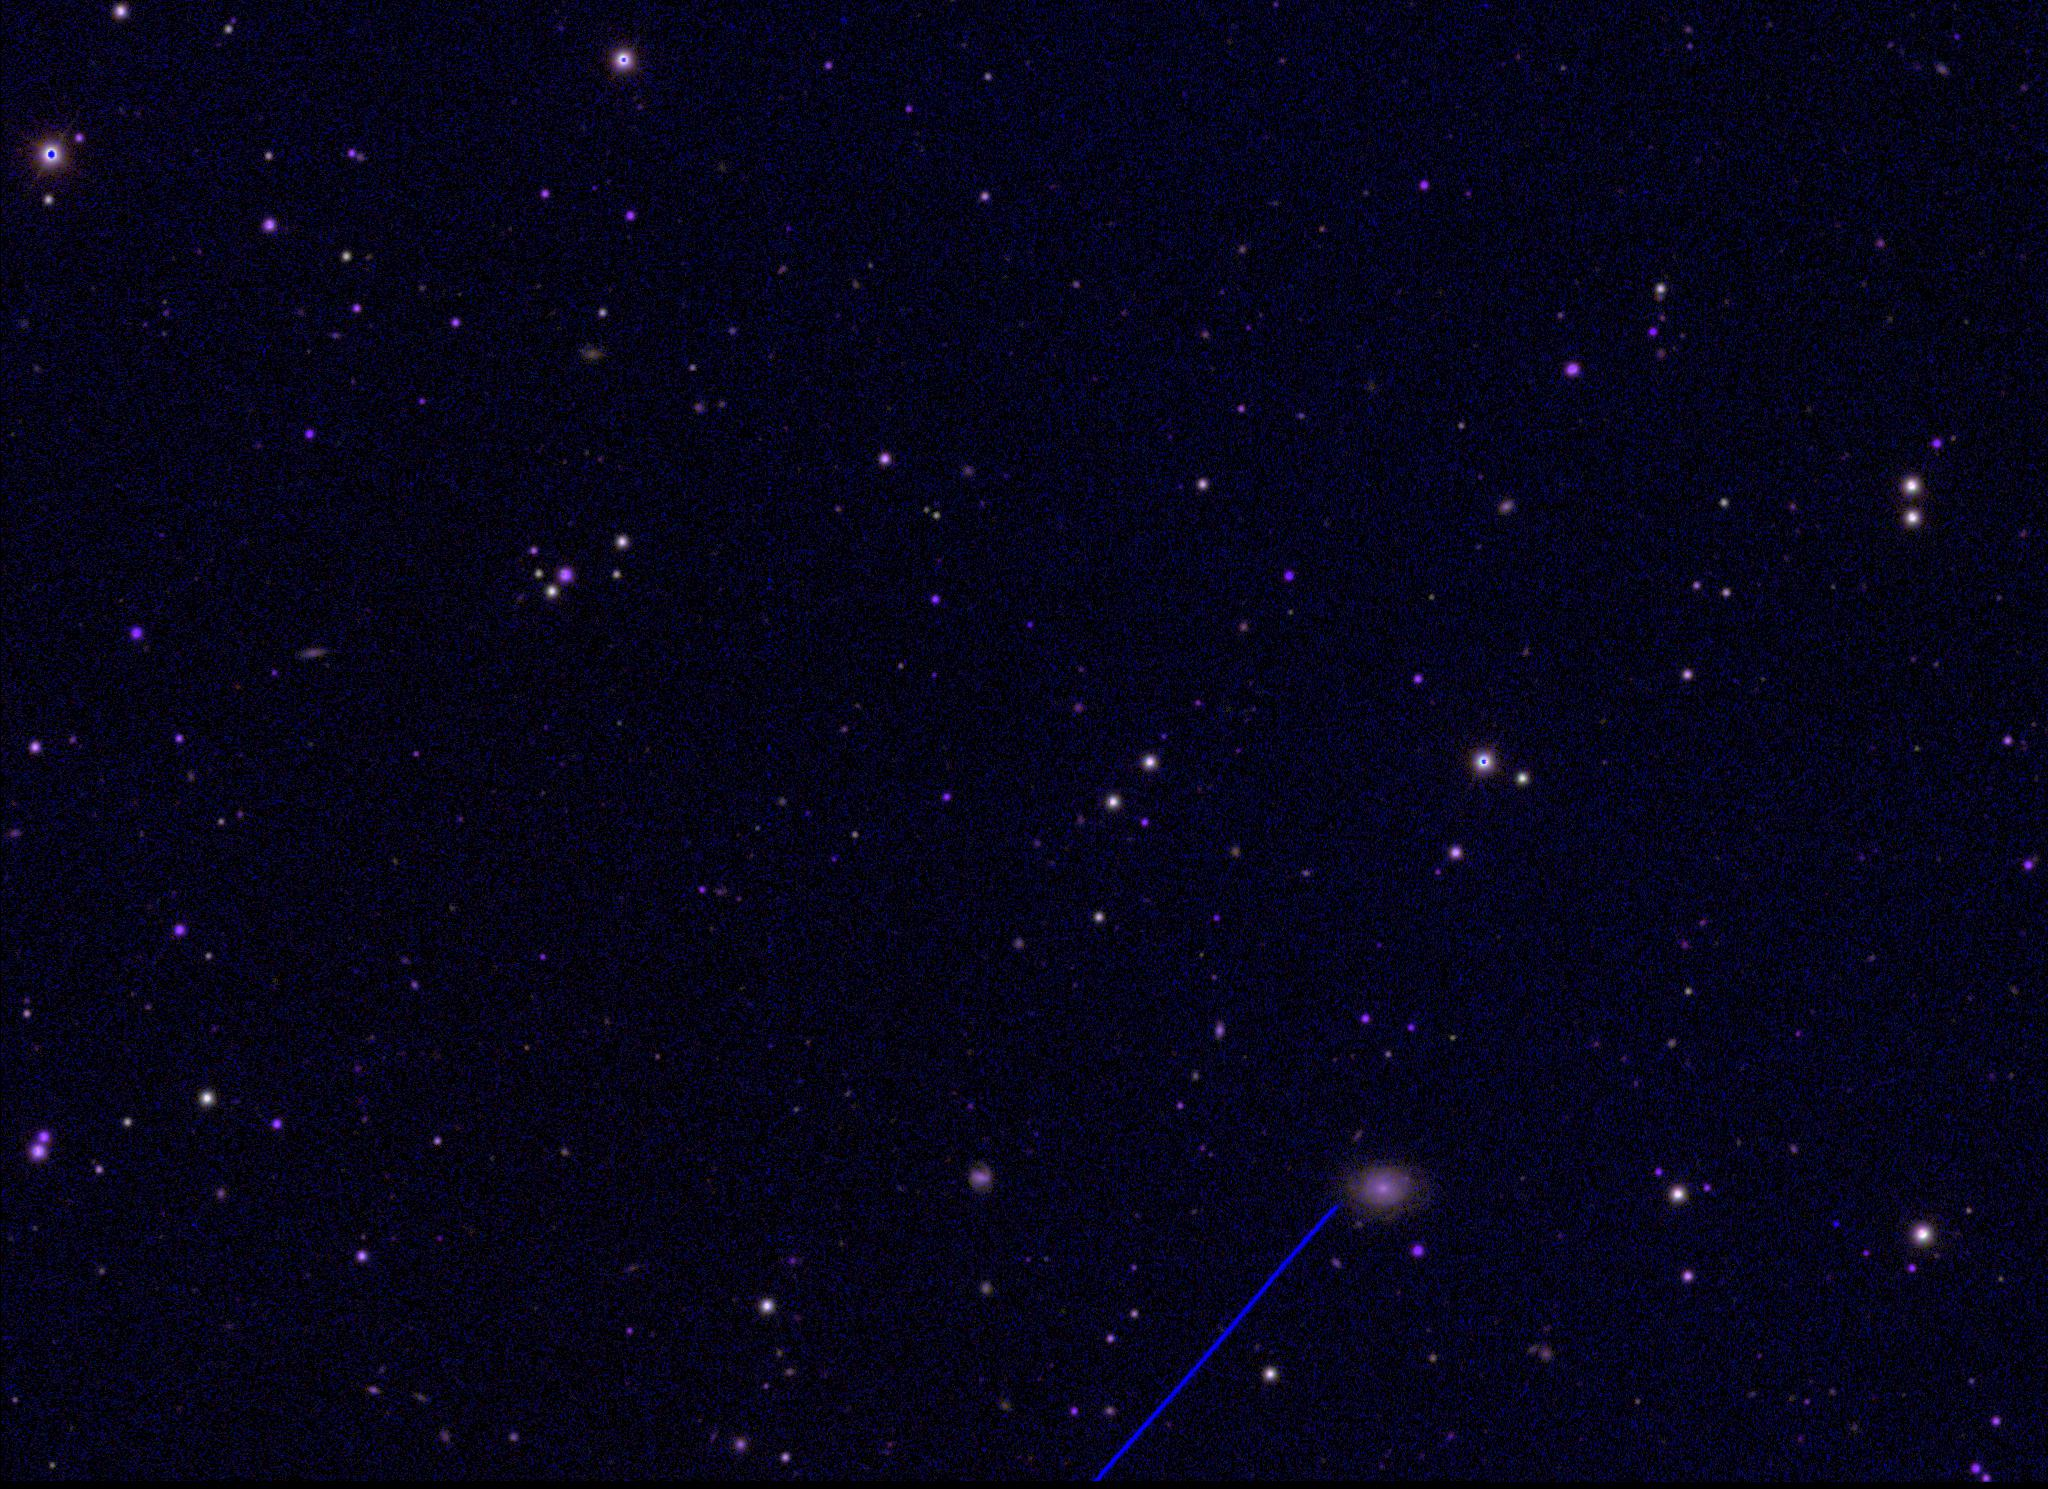L: (1830, 1217, 1844, 1231)
